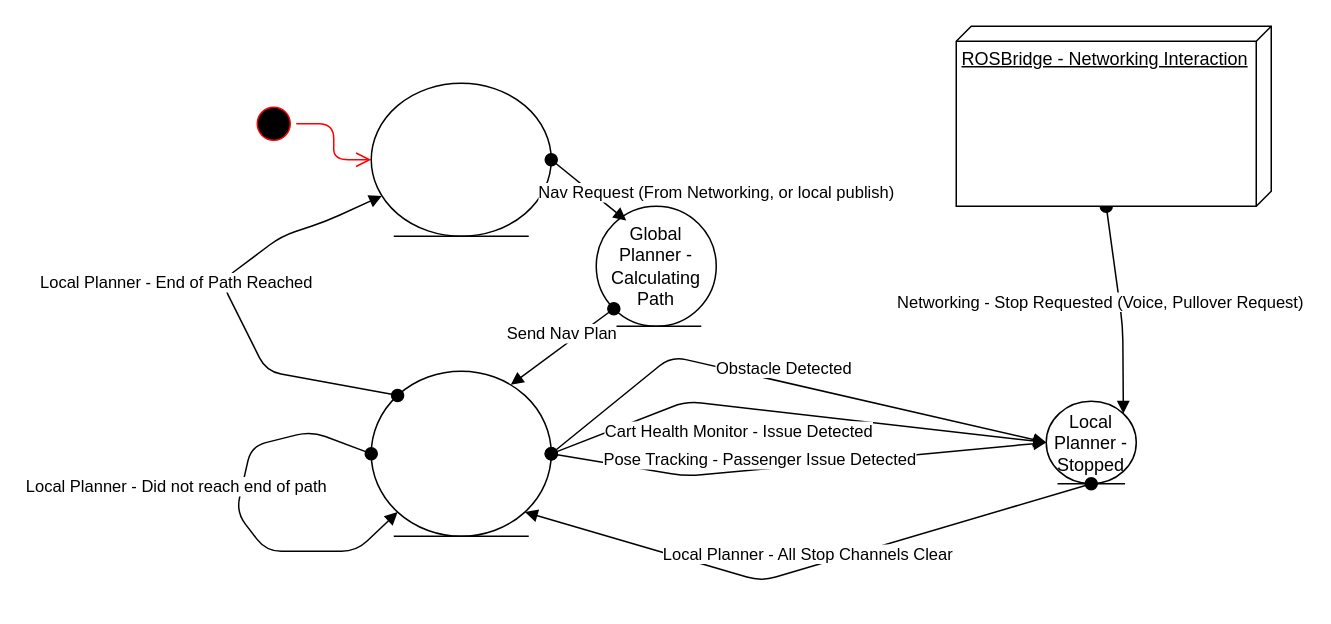
The diagram is 1331 pixels wide and 624 high, and some of its shapes have lost their labels. Each missing label, with the box of its shape:
Idle - Global Planner waiting for nav request: (370, 82, 551, 236)
Local Planner - Follow Path: (370, 370, 551, 536)
